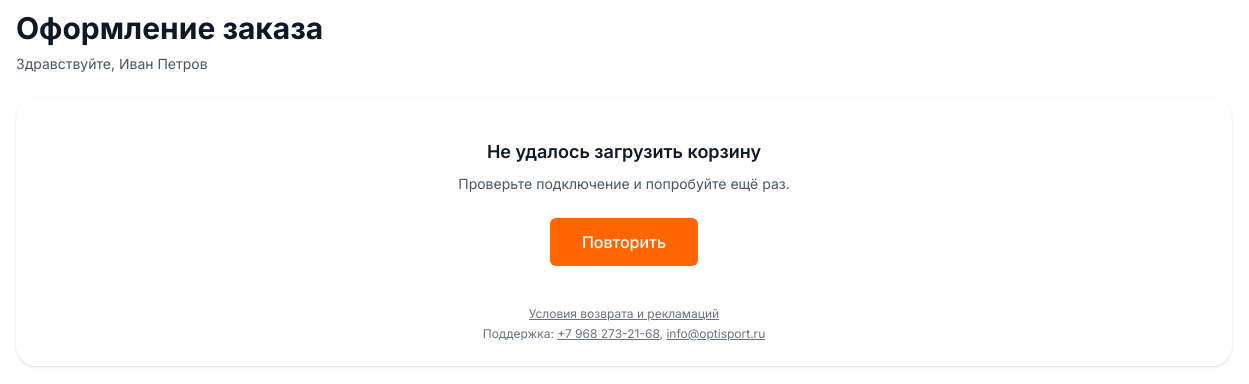
CheckoutPageClient (Story 41.10) › AC4 — ошибка загрузки корзины с повтором › «Повторить» проводит error → loading → итог по корзине: товаров нет → пустое состояние
Step 1. Click the button "Повторить" → [624, 242], box x1=550 y1=218 x2=698 y2=266
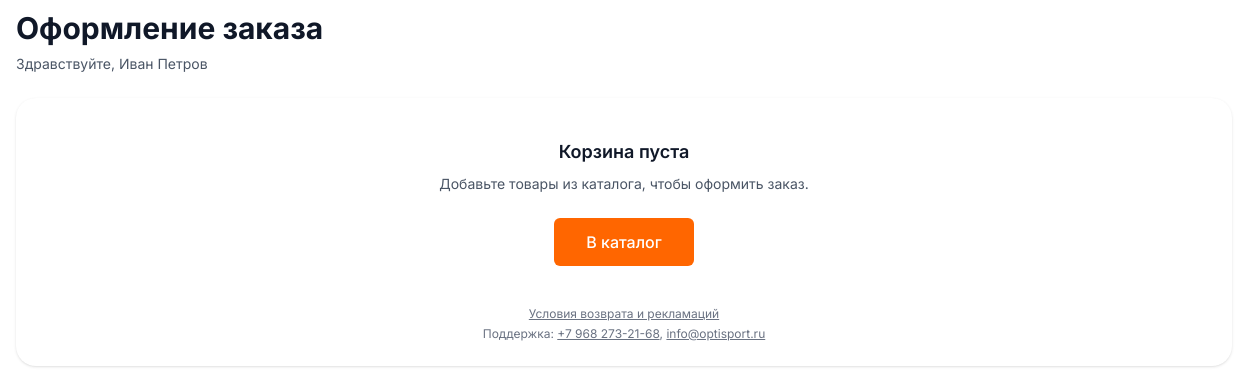
Result: the element with test id "checkout-empty-cart" is shown
Result: the heading "Не удалось загрузить корзину" is gone
